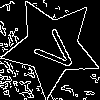V: (26, 21, 82, 76)
